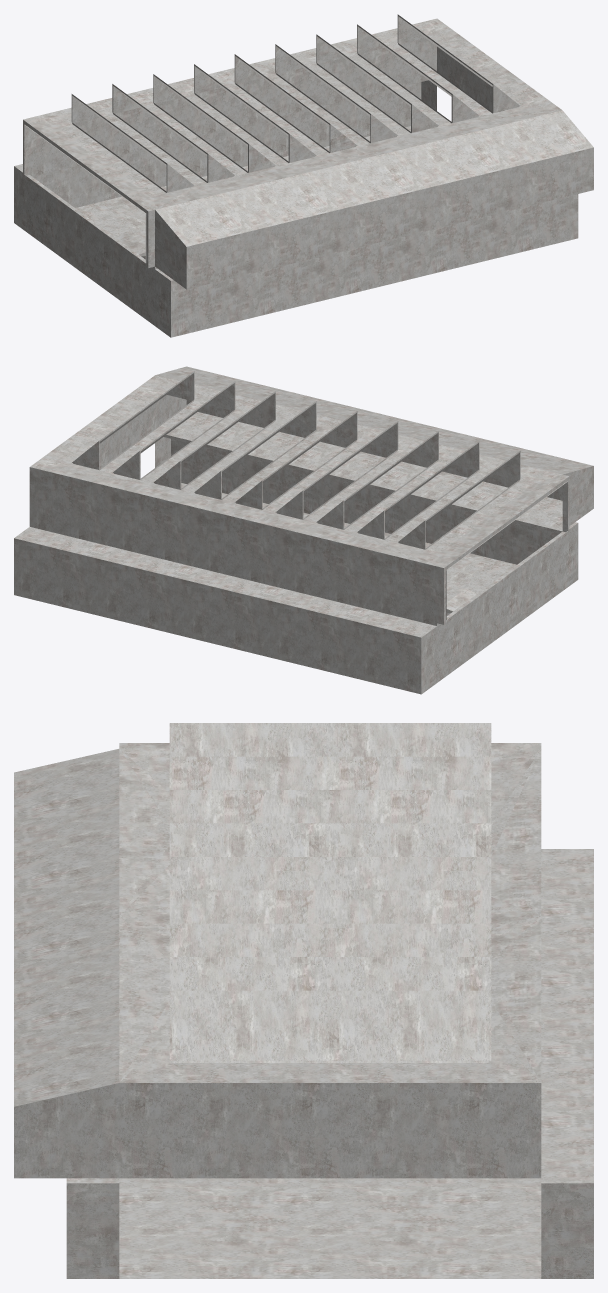
File: club2.glb
3 renders of one model, top to bottom at view 1: azimuth 30°, elevation 25°; view 2: azimuth 150°, elevation 25°; view 3: azimuth 270°, elevation 25°, orthographic. The views are drawn at different scales.
Visible parts, largest first — view 1: club; view 2: club; view 3: club.
Part boxes in pixels (box(x1,y1,x2,y2)): club: box(14, 14, 593, 337); club: box(14, 366, 593, 694); club: box(14, 723, 593, 1278).
Size of the model in its own units: 30.55 by 10.2 by 22.
1 material, 1 textured.
